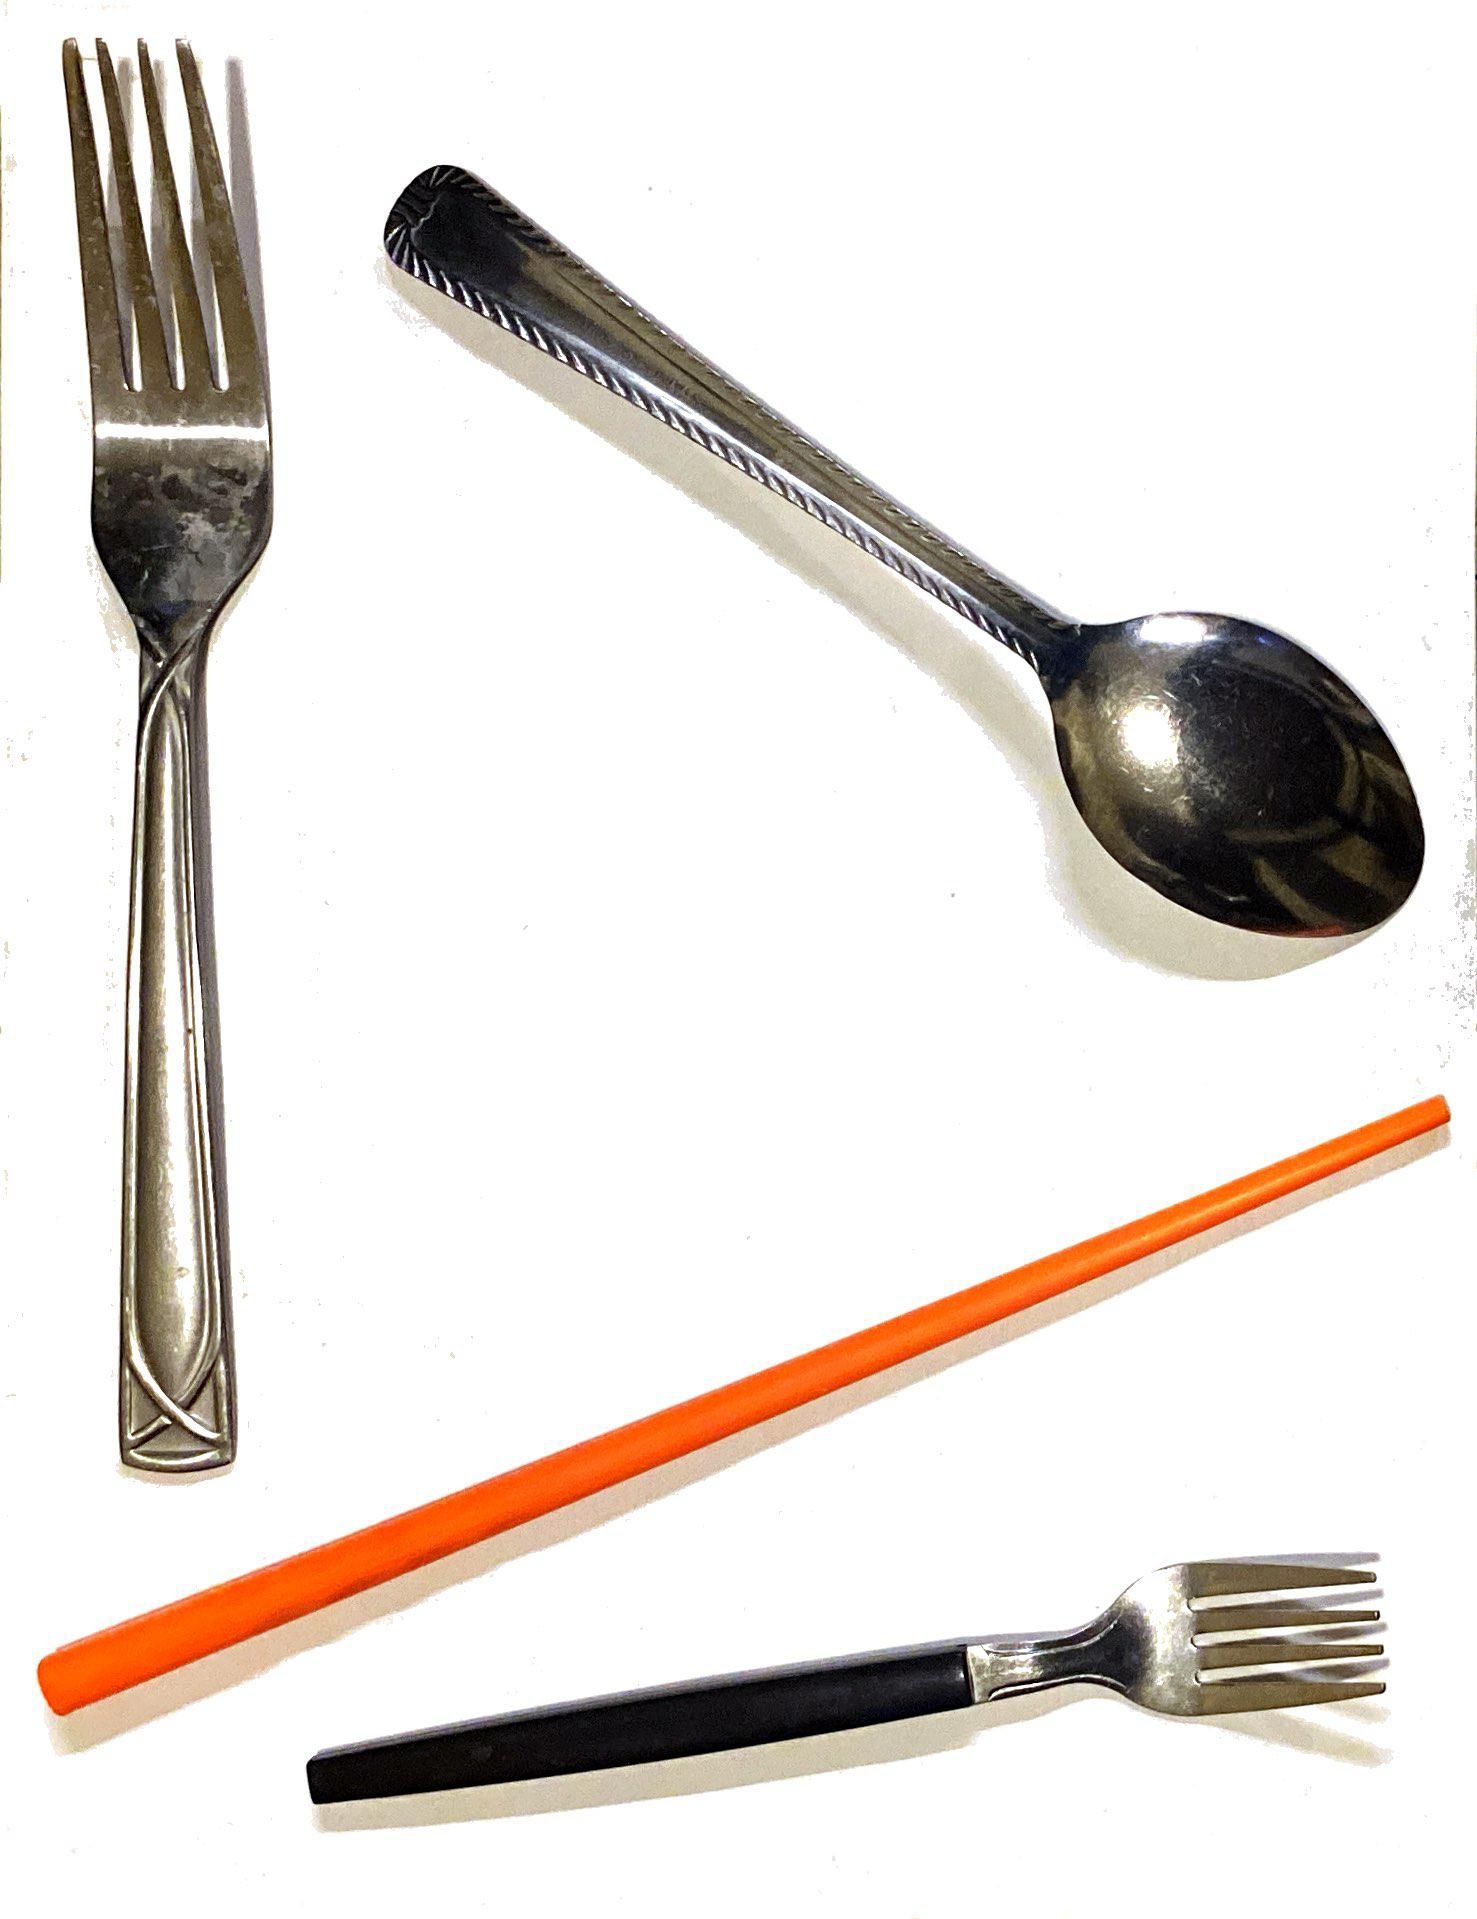Chopstick: (20, 1025, 1454, 1765)
Fork: (12, 28, 337, 1502), (310, 1492, 1420, 1919)
Spoon: (351, 109, 1416, 982)
